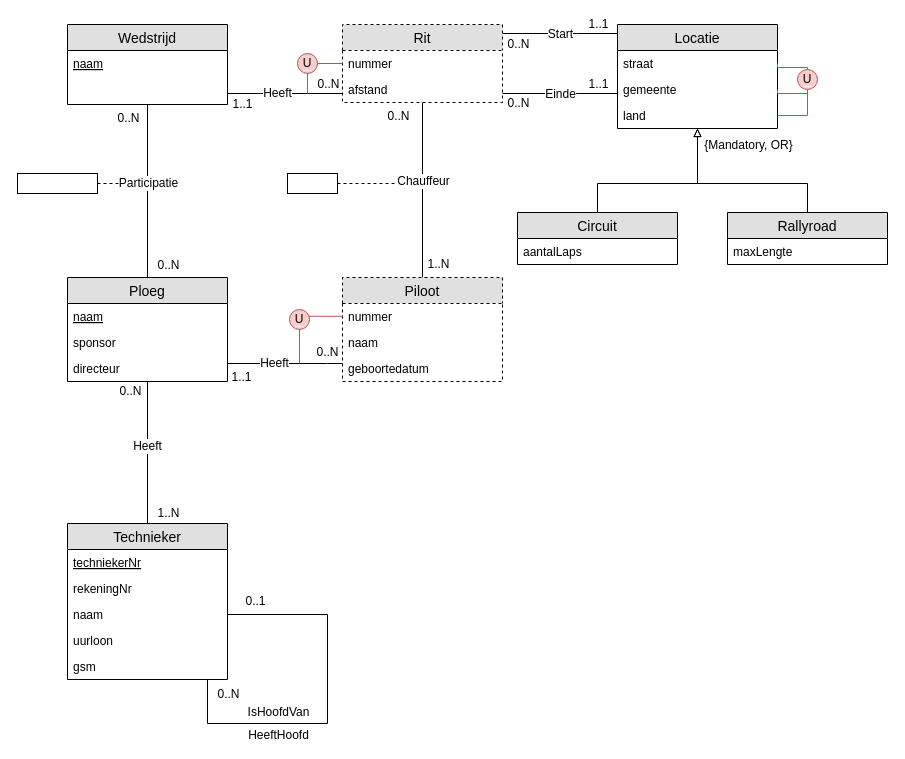
Image size: 905x759. Some labels were removed from this diagram. The centre of each missing label's shape, as x and y in pixels:
"positie" goes at [312,183].
"wedstrijdgeld" goes at [57,183].
